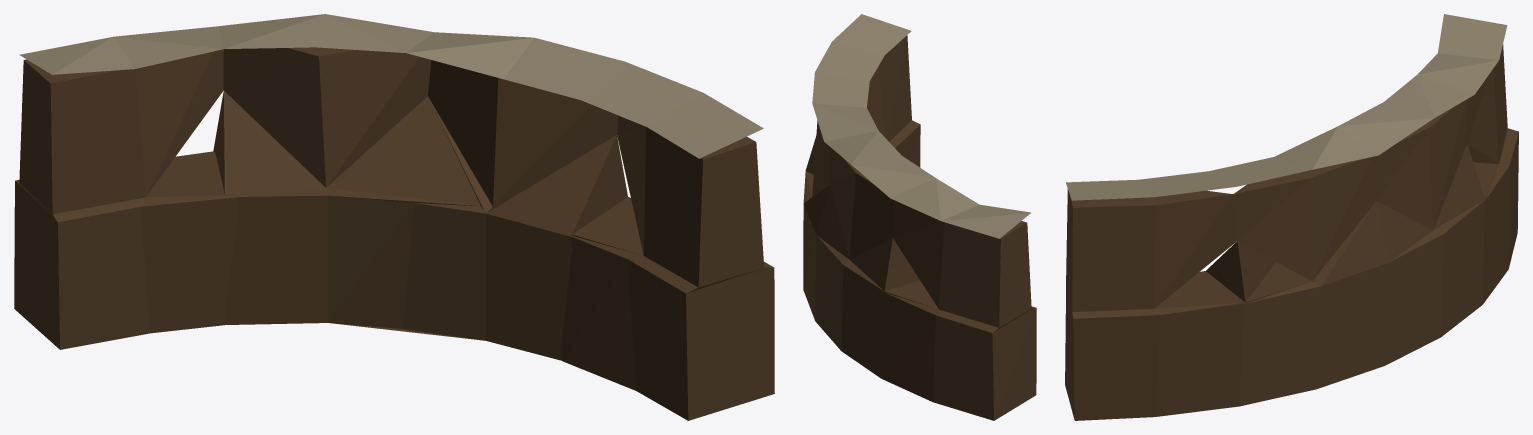
Rendered from retaining-wall-curve-lod1.glb.
3 renders of one model, left to right at view 1: azimuth 30°, elevation 25°; view 2: azimuth 150°, elevation 25°; view 3: azimuth 270°, elevation 25°, orthographic. The views are drawn at different scales.
Size of the model in its own units: 6.76 by 3.56 by 6.76.
